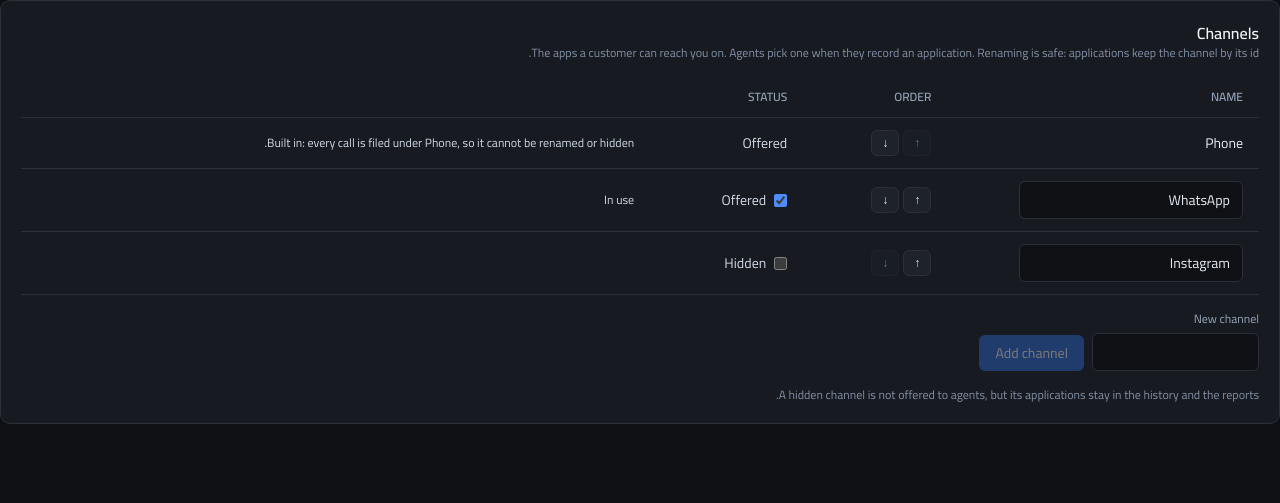
Test: channels card › shows the server’s refusal in words
Replace the text in the field showing "Instagram" with "WhatsApp" at (1131, 263), box 1019,244 -> 1243,282
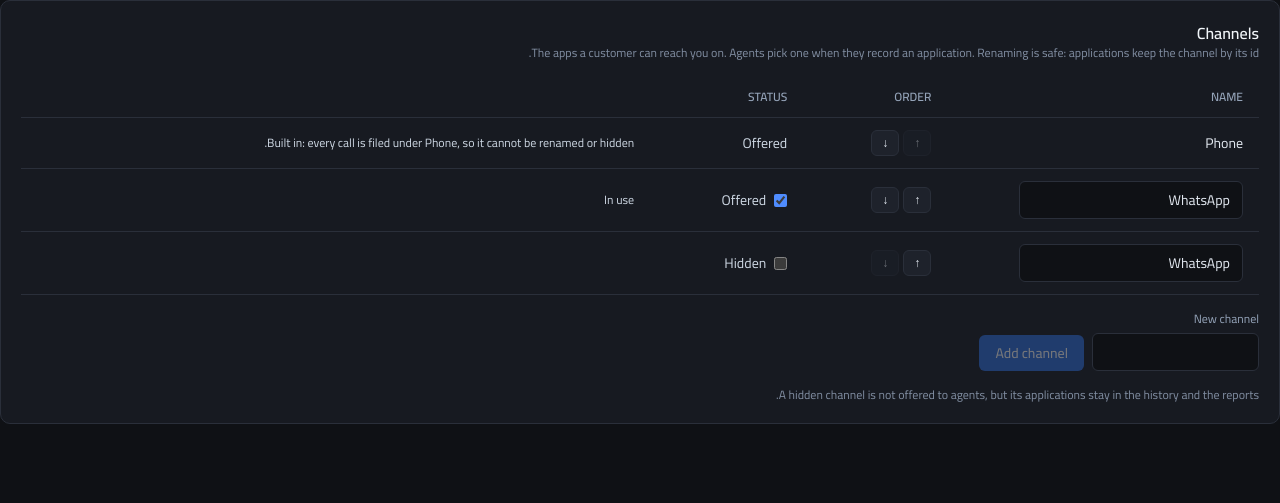
Leave the field showing "Instagram", box 1019,244 -> 1243,282
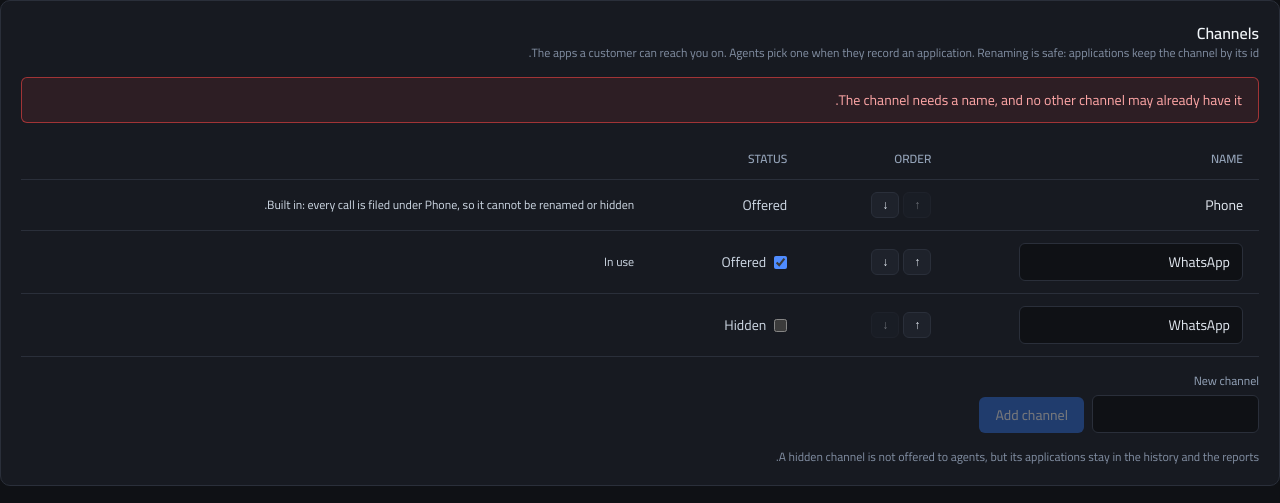
Expected: the message shows "no other channel may already have it", 835,87 -> 1242,113
